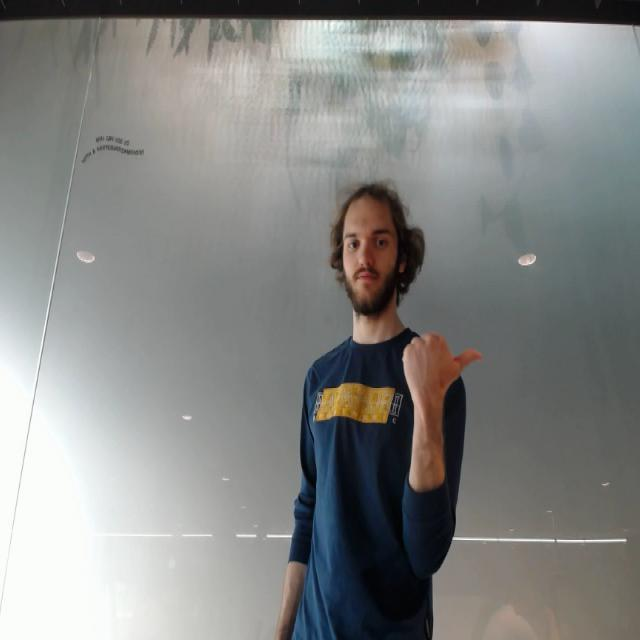right: (399, 327, 487, 406)
